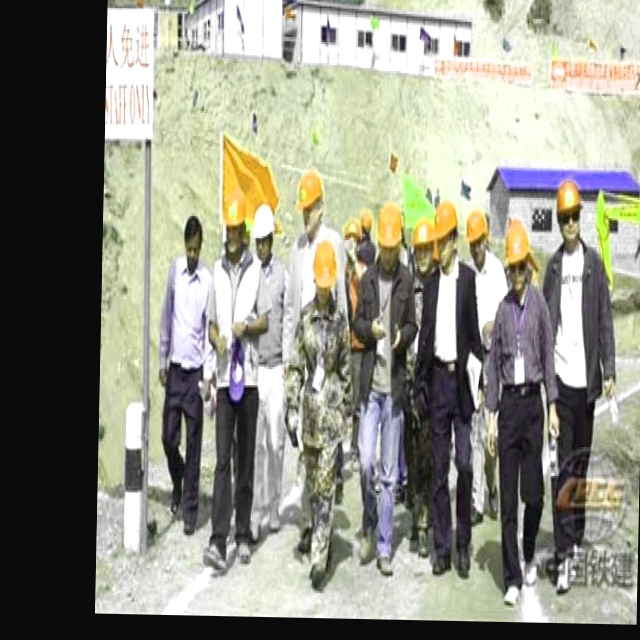Con_Casco: (555, 178, 582, 244), (297, 170, 324, 231), (252, 204, 277, 261)
Sin_Casco_Mascarrilla: (183, 216, 204, 269)
